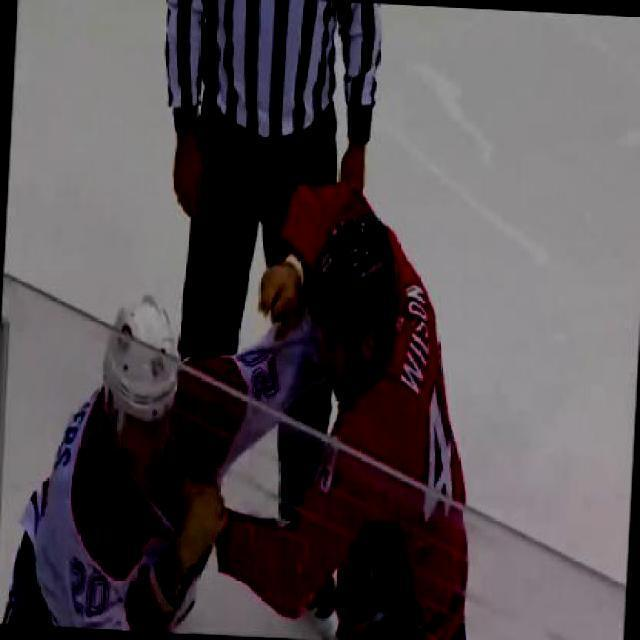fight: (18, 166, 497, 639)
